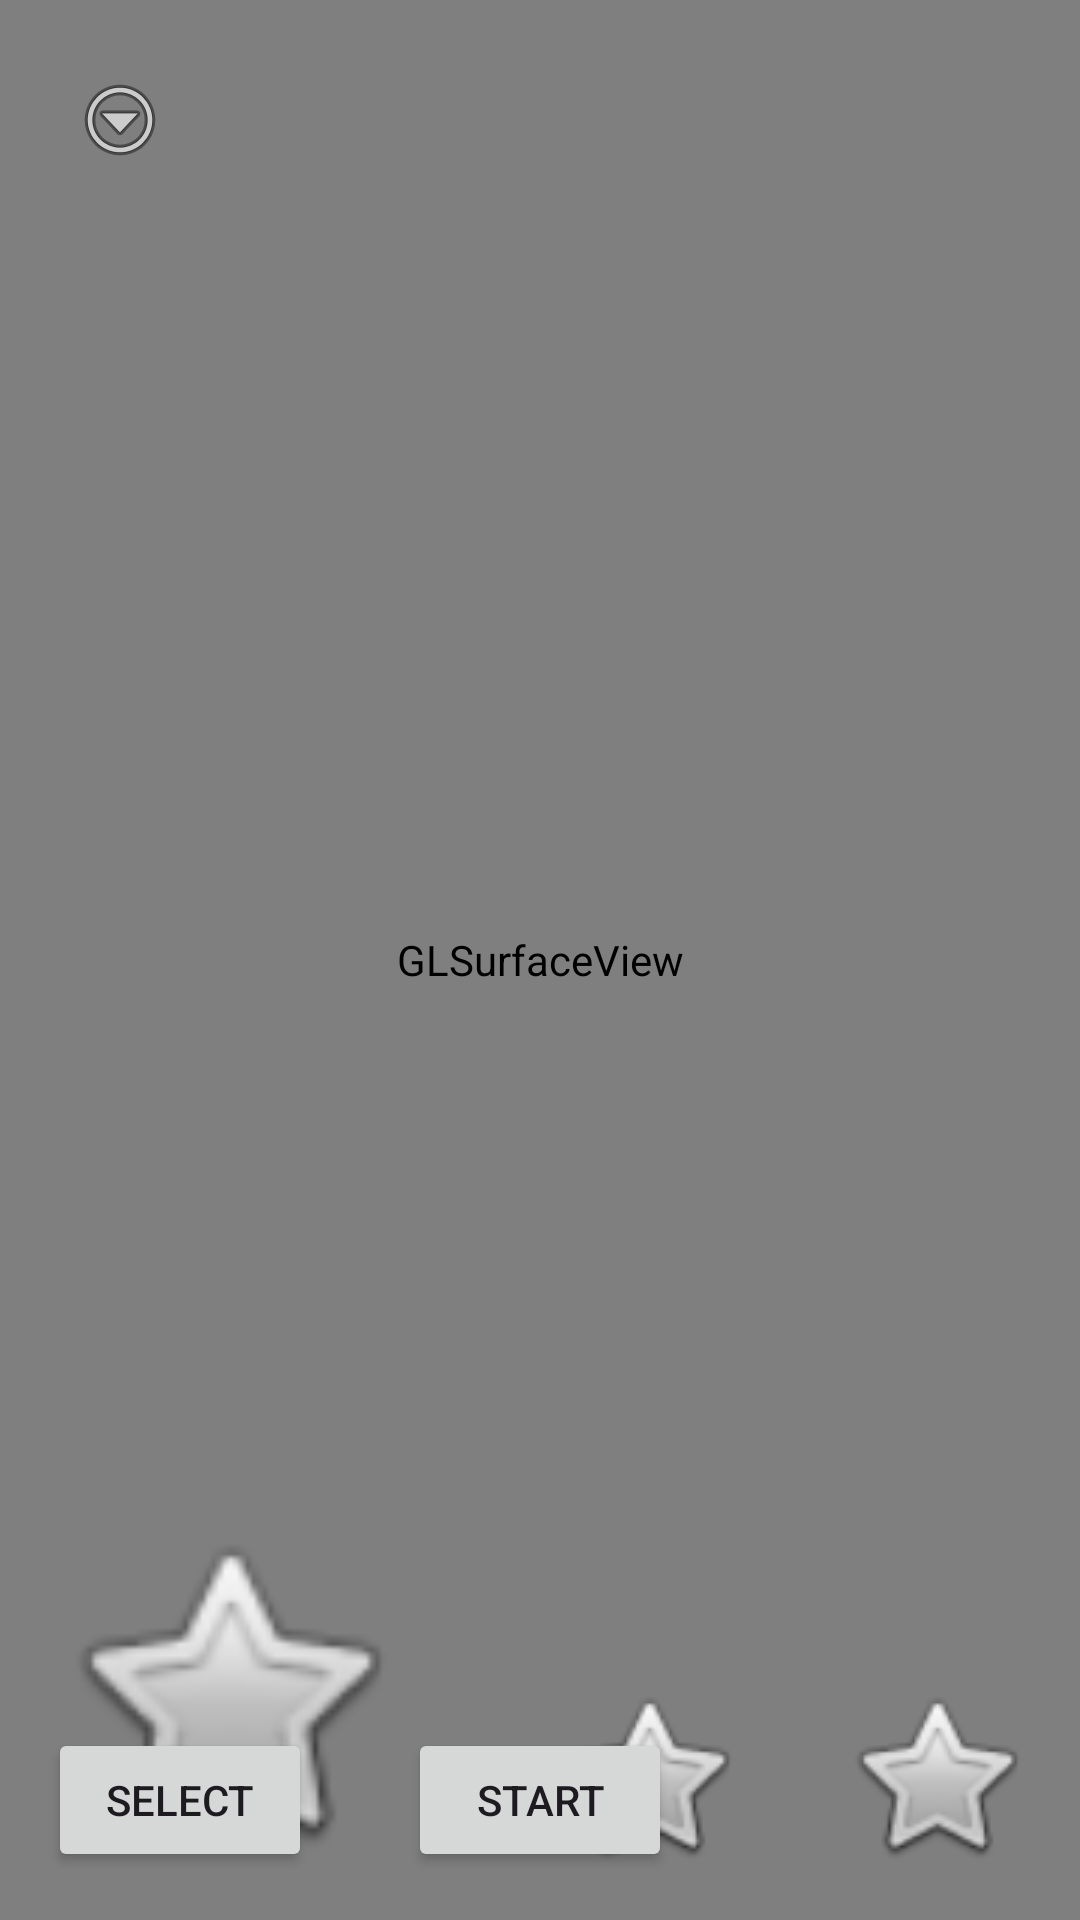

Icons on this 1080px x 1920px Android screen, each with the point to tap as point (x, y):
Menu: point (120, 120)
star: point (938, 1779)
